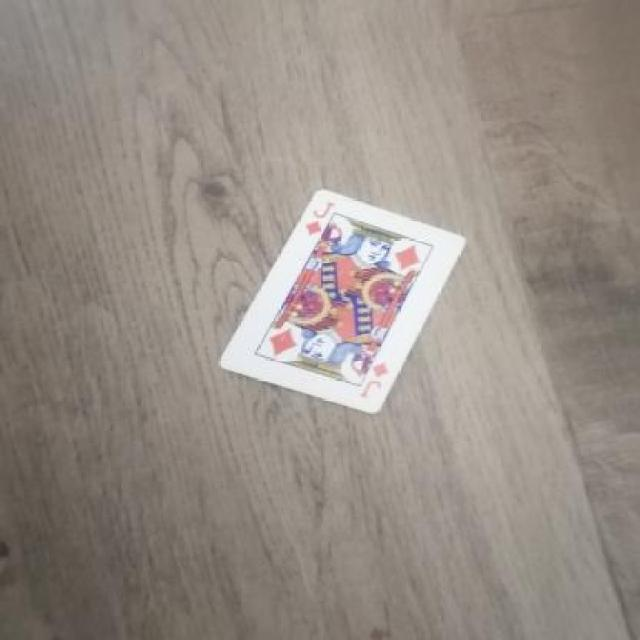JD: (300, 194, 340, 240), (353, 360, 392, 406)
